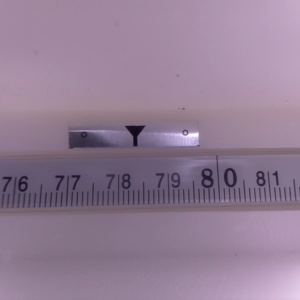0: (223, 168, 237, 188)
1: (272, 170, 279, 187)
6: (17, 175, 28, 192)
7: (54, 175, 65, 191), (0, 176, 11, 192), (70, 175, 80, 191), (154, 173, 164, 188), (105, 174, 114, 189)
8: (200, 168, 214, 188), (255, 170, 265, 187), (121, 173, 130, 189)
9: (170, 172, 180, 188)
finger: (123, 125, 146, 148)
